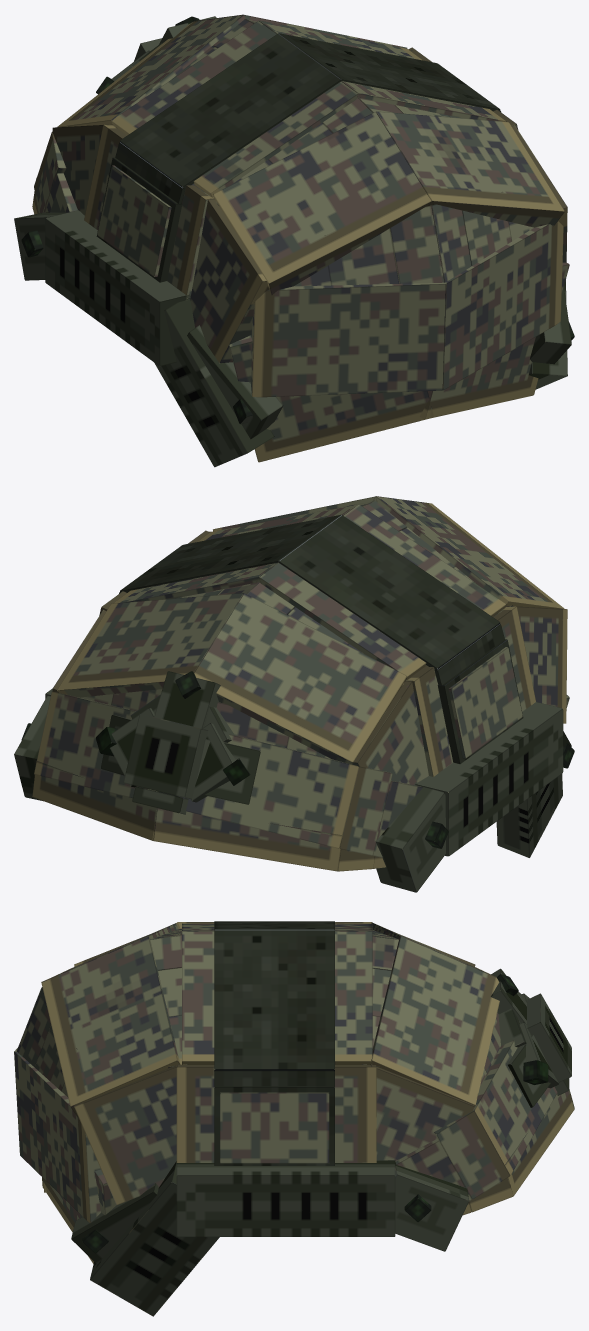
Rendered from ratnik_h.obj.
3 views of the same model, one above another, from view 1: azimuth 30°, elevation 25°; view 2: azimuth 150°, elevation 25°; view 3: azimuth 270°, elevation 25° (orthographic). The views are drawn at different scales.
Visible parts, largest first — view 1: base_h; view 2: base_h; view 3: base_h.
Boxes of the visible parts, x1,y1,x2,y2 form: base_h: (14, 14, 574, 467); base_h: (14, 496, 574, 892); base_h: (14, 921, 574, 1316).
Bounding box in the file's own units: 0.7563 × 0.5722 × 0.9294.
